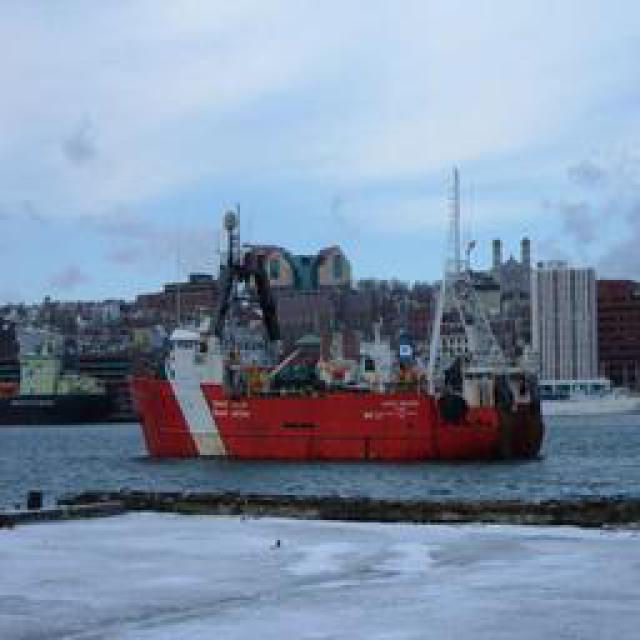Ship: (124, 177, 554, 467)
